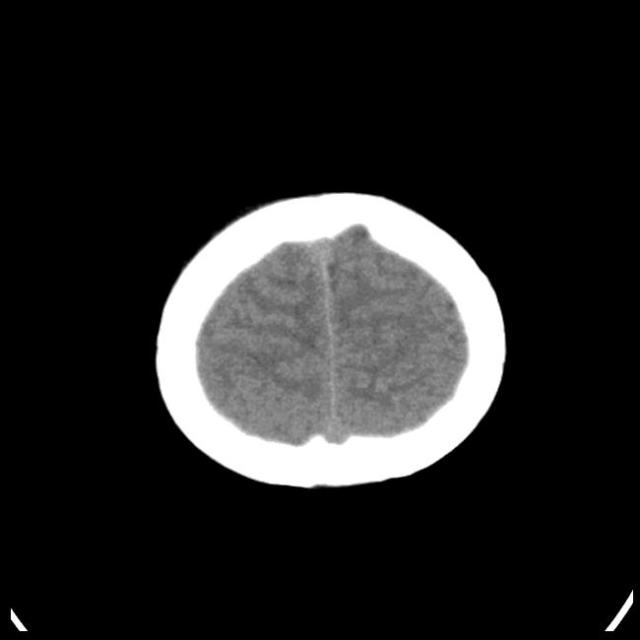lesion: (149, 183, 513, 494)
